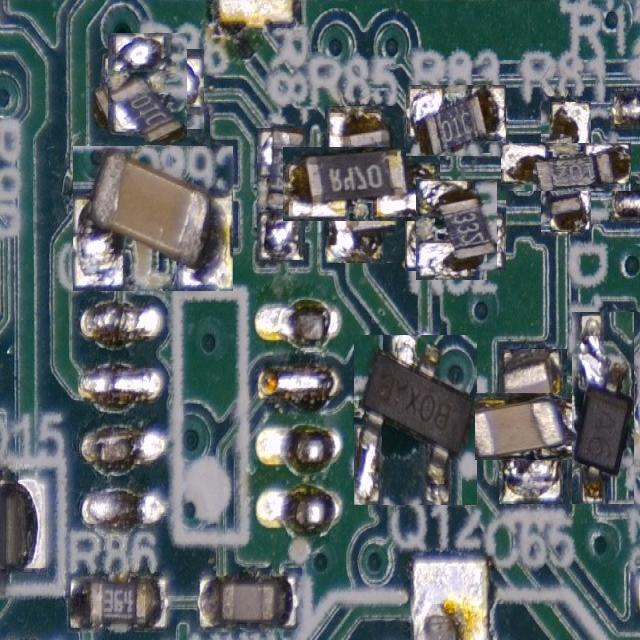Incorrect_installation: (73, 147, 233, 290), (355, 336, 475, 505), (573, 312, 634, 504), (284, 147, 439, 220), (455, 393, 609, 460), (109, 33, 186, 144), (415, 180, 497, 280), (405, 84, 506, 156), (256, 128, 305, 260), (502, 143, 631, 191)
